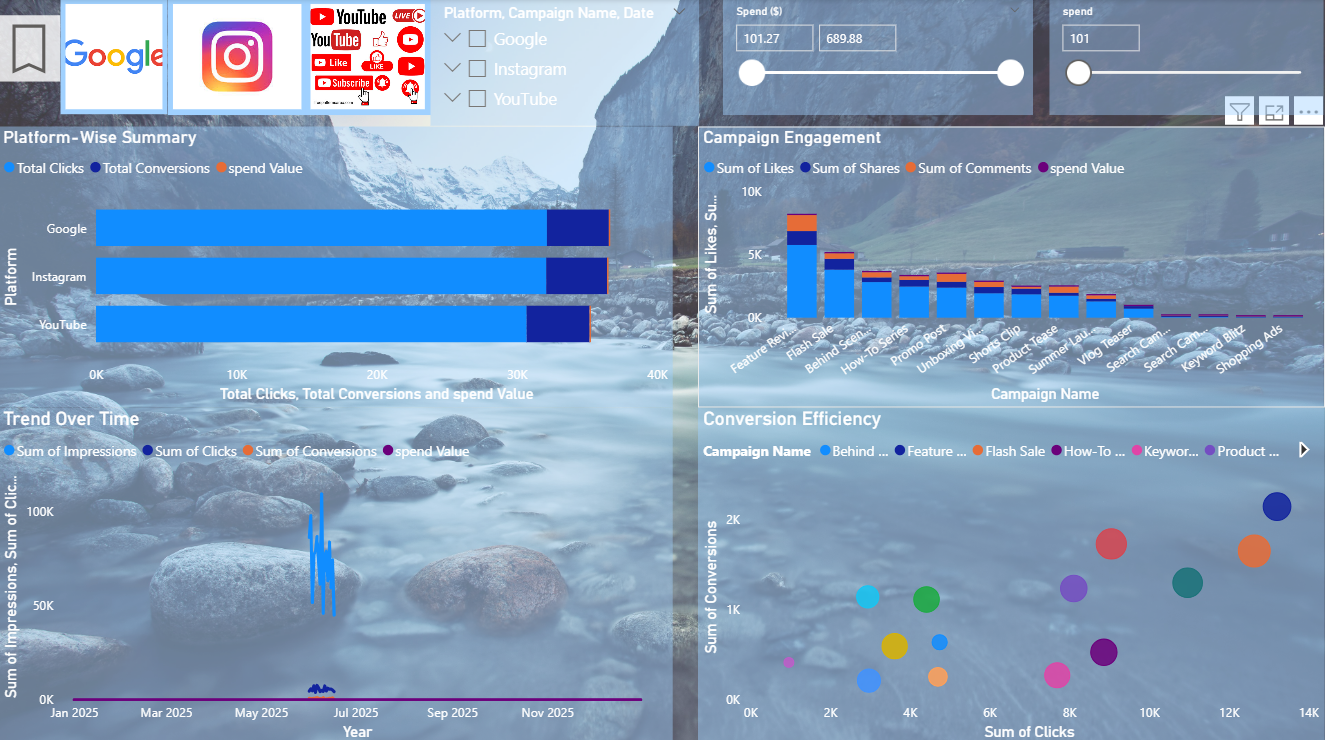

This screenshot's page, from the dashboard's own definition file:
{"tool":"powerbi","page":{"name":" Page 2","canvas":[1280,720],"ordinal":1},"visuals":[{"type":"lineChart","title":"Trend Over Time","fields":{"Y":["Sum(social_media_dataset.Impressions)","Sum(social_media_dataset.Clicks)","Sum(social_media_dataset.Conversions)","spend.spend Value"],"Category":["social_media_dataset.Date.Variation.Date Hierarchy.Year","social_media_dataset.Date.Variation.Date Hierarchy.Month","social_media_dataset.Date.Variation.Date Hierarchy.Day"]},"box":[0,394.5,651.5,325.7],"z":0},{"type":"scatterChart","title":" Conversion Efficiency ","fields":{"X":["Sum(social_media_dataset.Clicks)"],"Y":["Sum(social_media_dataset.Conversions)"],"Series":["social_media_dataset.Campaign Name"],"Size":["social_media_dataset.Total Spend"]},"box":[675.6,394.5,604.4,325.7],"z":1000},{"type":"barChart","title":"Platform-Wise Summary","fields":{"Category":["social_media_dataset.Platform"],"Y":["social_media_dataset.Total Clicks","social_media_dataset.Total Conversions","spend.spend Value"]},"box":[0,123.1,651.5,271.4],"z":2000},{"type":"columnChart","title":"Campaign Engagement ","fields":{"Category":["social_media_dataset.Campaign Name"],"Y":["Sum(social_media_dataset.Likes)","Sum(social_media_dataset.Shares)","Sum(social_media_dataset.Comments)","spend.spend Value"]},"box":[676,122.9,604,271.3],"z":3000},{"type":"image","box":[60,0,103.2,111.5],"z":4000},{"type":"image","box":[163.8,0,134.1,111.7],"z":5000},{"type":"image","box":[296.7,0,120.4,111.7],"z":6000},{"type":"slicer","fields":{"Values":["social_media_dataset.Platform","social_media_dataset.Campaign Name","social_media_dataset.Date"]},"box":[416.9,0,259.3,122.7],"z":7000},{"type":"actionButton","box":[0,15.3,60,64.1],"z":8000},{"type":"slicer","fields":{"Values":["spend.spend"]},"box":[1015.1,0,264.4,112],"z":9000},{"type":"slicer","fields":{"Values":["social_media_dataset.Spend ($)"]},"box":[700.1,0,299.2,111.7],"z":10000}]}

Visuals, with their boxes in screenshot pixels (x1, y1, x2, y2), scaled from the page's 1280x720 canvas onto the 1325x740 screenshot:
"Trend Over Time" lineChart: locate(0, 405, 674, 739)
" Conversion Efficiency " scatterChart: locate(699, 405, 1324, 739)
"Platform-Wise Summary" barChart: locate(0, 127, 674, 405)
"Campaign Engagement " columnChart: locate(700, 126, 1324, 405)
image: locate(62, 0, 169, 115)
image: locate(170, 0, 308, 115)
image: locate(307, 0, 432, 115)
slicer - social_media_dataset.Platform x social_media_dataset.Campaign Name: locate(432, 0, 700, 126)
actionButton: locate(0, 16, 62, 82)
slicer - spend.spend: locate(1051, 0, 1324, 115)
slicer - social_media_dataset.Spend ($): locate(725, 0, 1034, 115)
